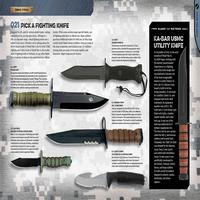knife: (3, 77, 112, 117), (173, 47, 196, 197), (44, 118, 146, 151), (56, 57, 150, 89), (7, 150, 79, 176), (72, 171, 148, 193)
